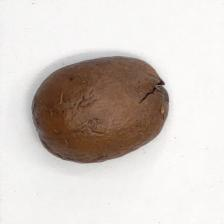NG: (134, 62, 170, 114)
